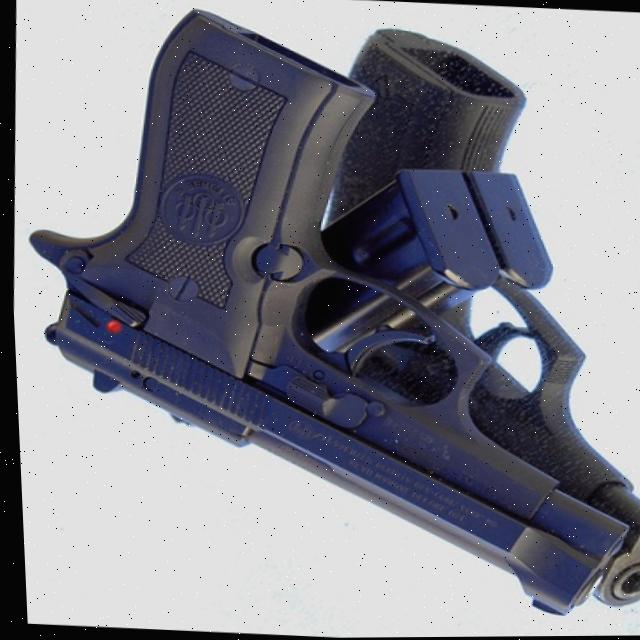pistol: (0, 0, 640, 620)
